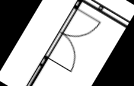double door: (47, 7, 103, 74)
